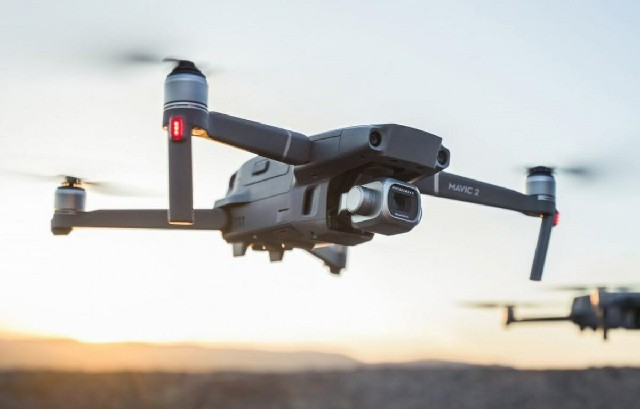maybay_khongnguoilai: (42, 53, 565, 276)
